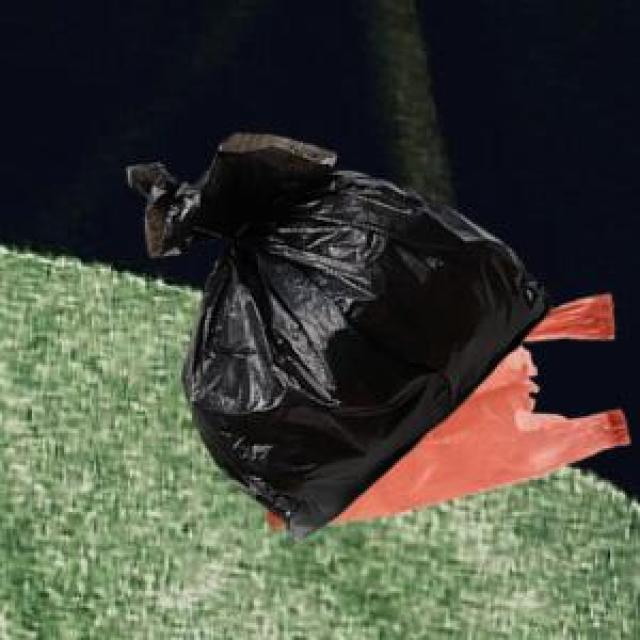miscellaneous trash: (124, 130, 548, 538)
